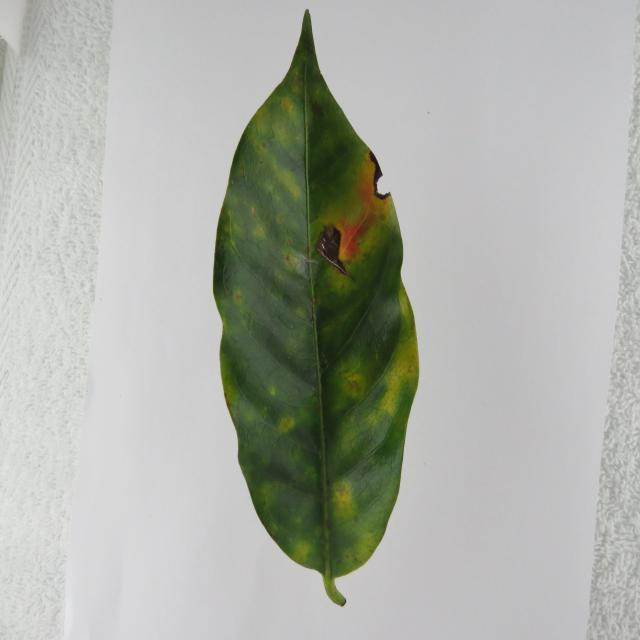DeficienciaNutricional-Fosforo: (214, 10, 419, 605)
